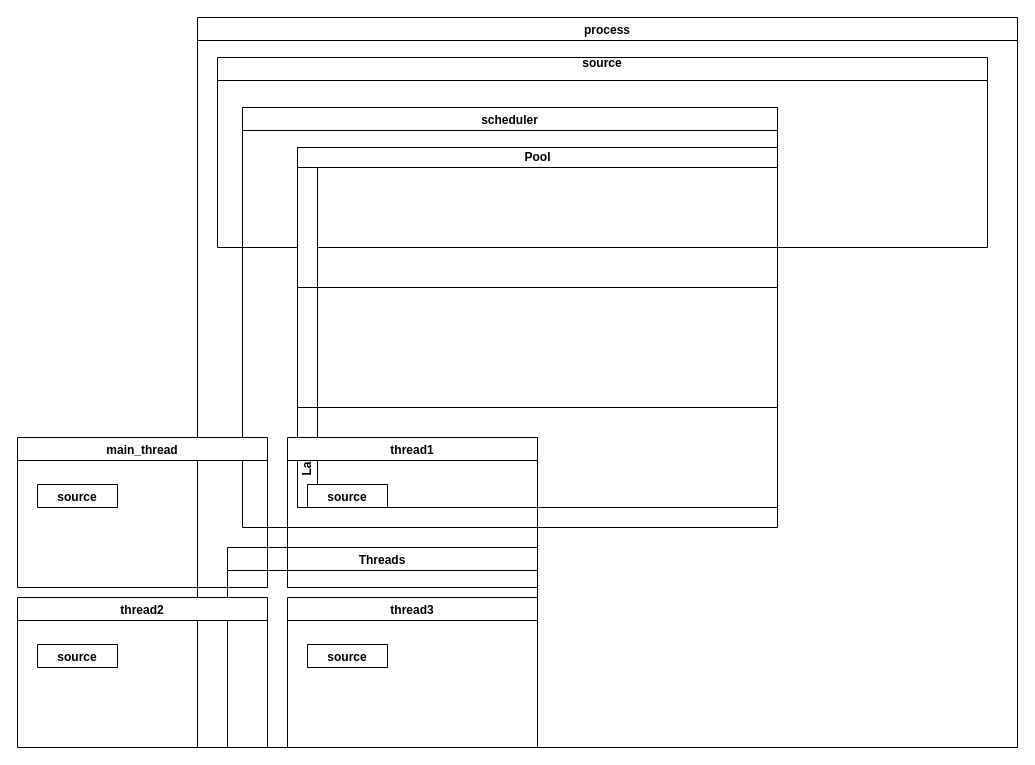
Image size: 1035x765. Some labels were removed from this diagram. The shapes that lost their labels are listed below. From the top down, each one's centre as x and y in pixels, then its label:
At point 537,227: "Lane 1".
At point 537,347: "Lane 2".
